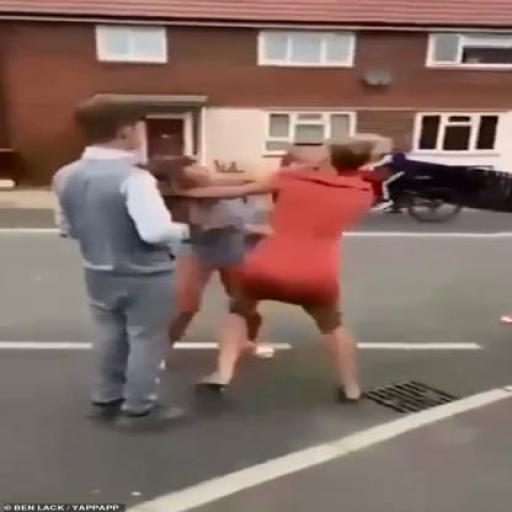Fighting: (54, 99, 366, 420)
